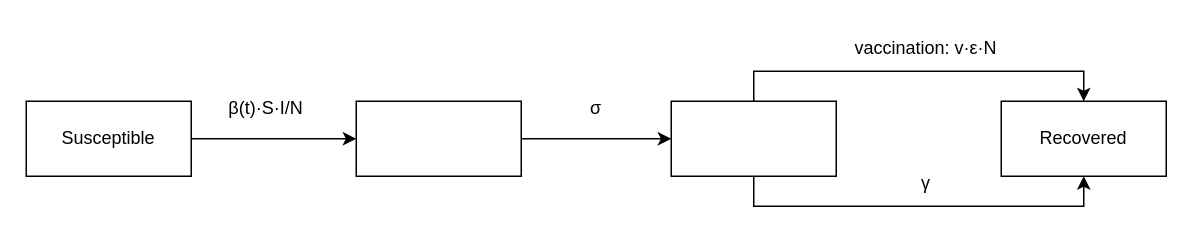
This 1193x245 diagram has some shape labels left out. Each missing label, with the centre of its shape:
"Exposed" goes at point (438, 138).
"Infected" goes at point (753, 138).
